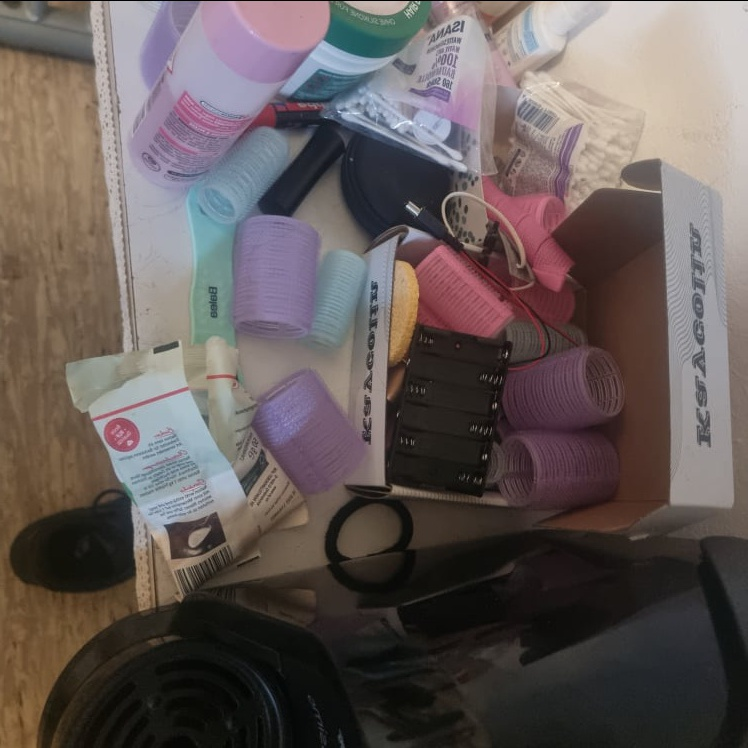BATTERY BOX: (387, 321, 513, 494)
